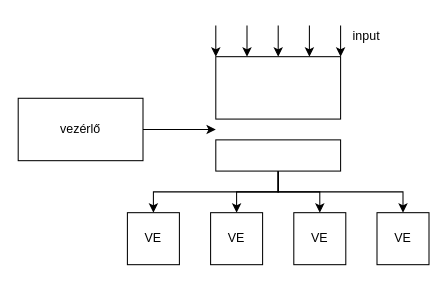
This 447x283 diagram has some shape labels left out. Here are the shapes that lost their labels. From the top down, the centre of each, then its label:
At pixel 278 87: "puffer".
At pixel 278 155: "utasítás szó".
